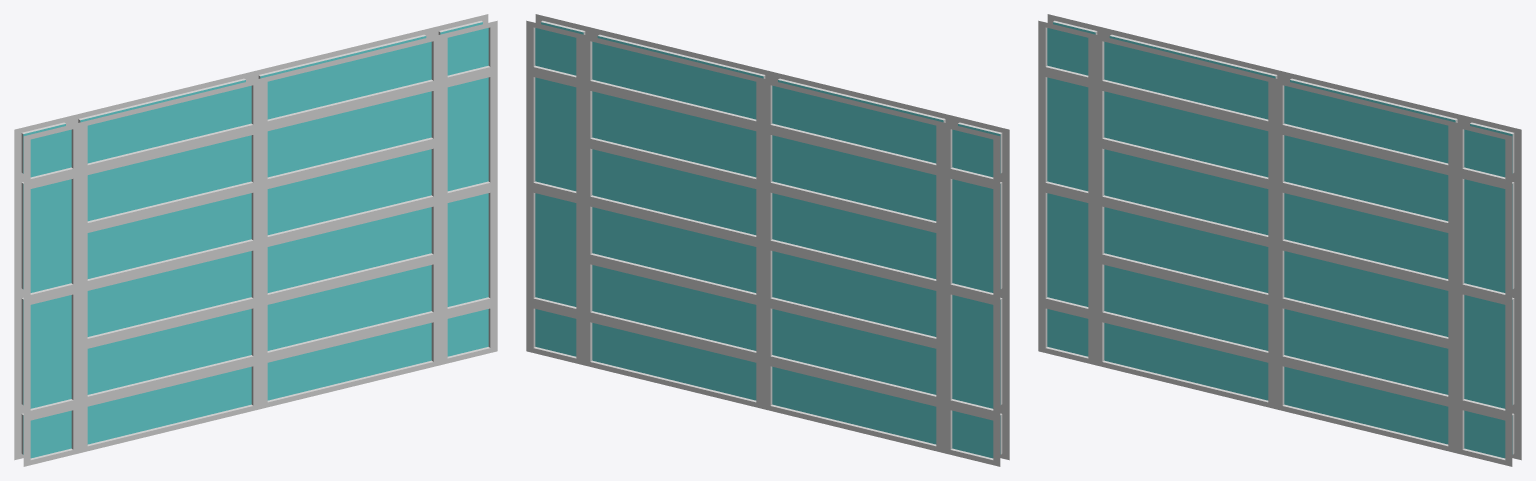
File: MESH_ENV(Janela_02_1,5x1).fbx
3 views of the same model, side by side, from view 1: azimuth 30°, elevation 25°; view 2: azimuth 150°, elevation 25°; view 3: azimuth 330°, elevation 25° (orthographic).
Parts seen in each view (by area): view 1: MESH_ENV(Janela_02_1,5x1)_LOD0; view 2: MESH_ENV(Janela_02_1,5x1)_LOD0; view 3: MESH_ENV(Janela_02_1,5x1)_LOD0.
Boxes of the visible parts, box(x1,y1,x2,y2) form: MESH_ENV(Janela_02_1,5x1)_LOD0: box(14, 14, 497, 466); MESH_ENV(Janela_02_1,5x1)_LOD0: box(526, 14, 1009, 466); MESH_ENV(Janela_02_1,5x1)_LOD0: box(1038, 14, 1521, 466).
Bounding box in the file's own units: 150 × 100 × 5.
